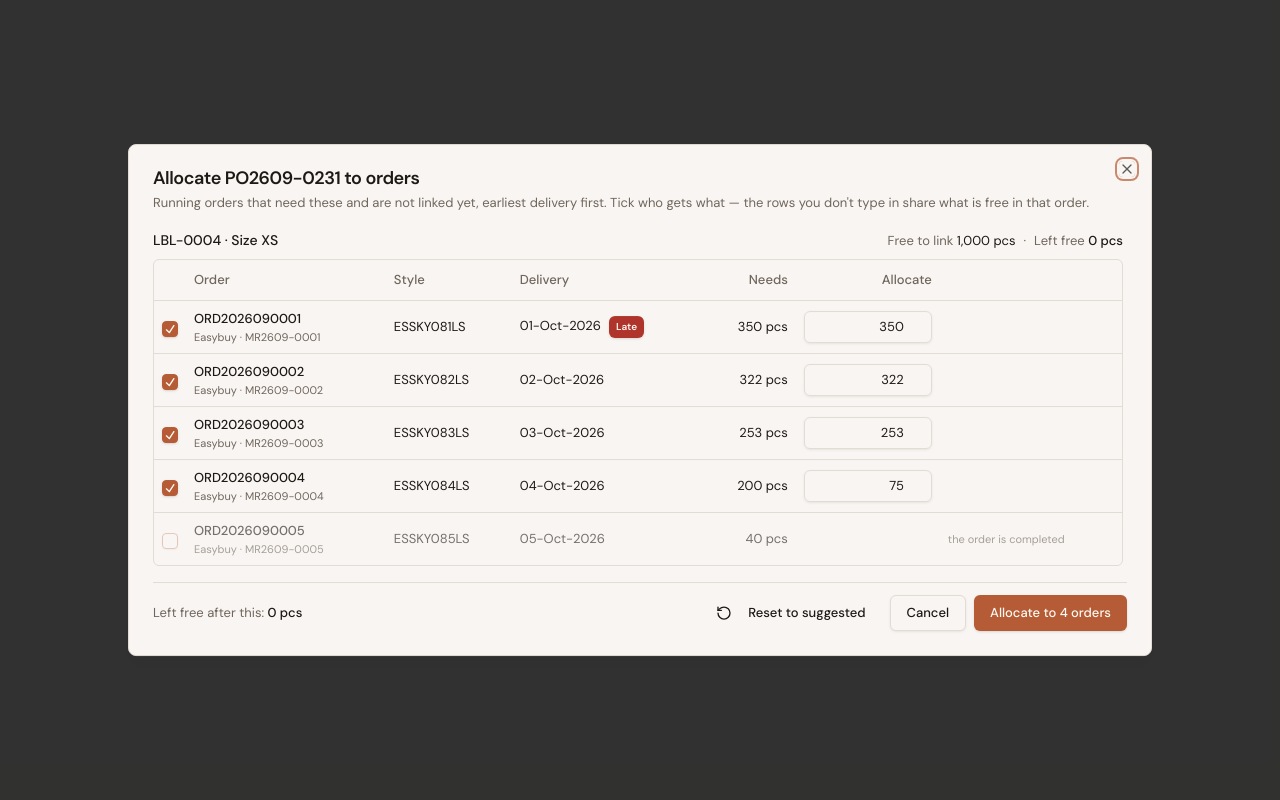
Test: AllocateToOrdersDialog › a refused row shows why, and the split stays as it was
The image size is (1280, 800).
Expected: the heading "Allocate PO2609-0231 to orders" is shown, [153,166,420,190]
Click the checkbox named "Allocate to ORD2026090001". click: (170, 329)
box: [162,321,178,337]
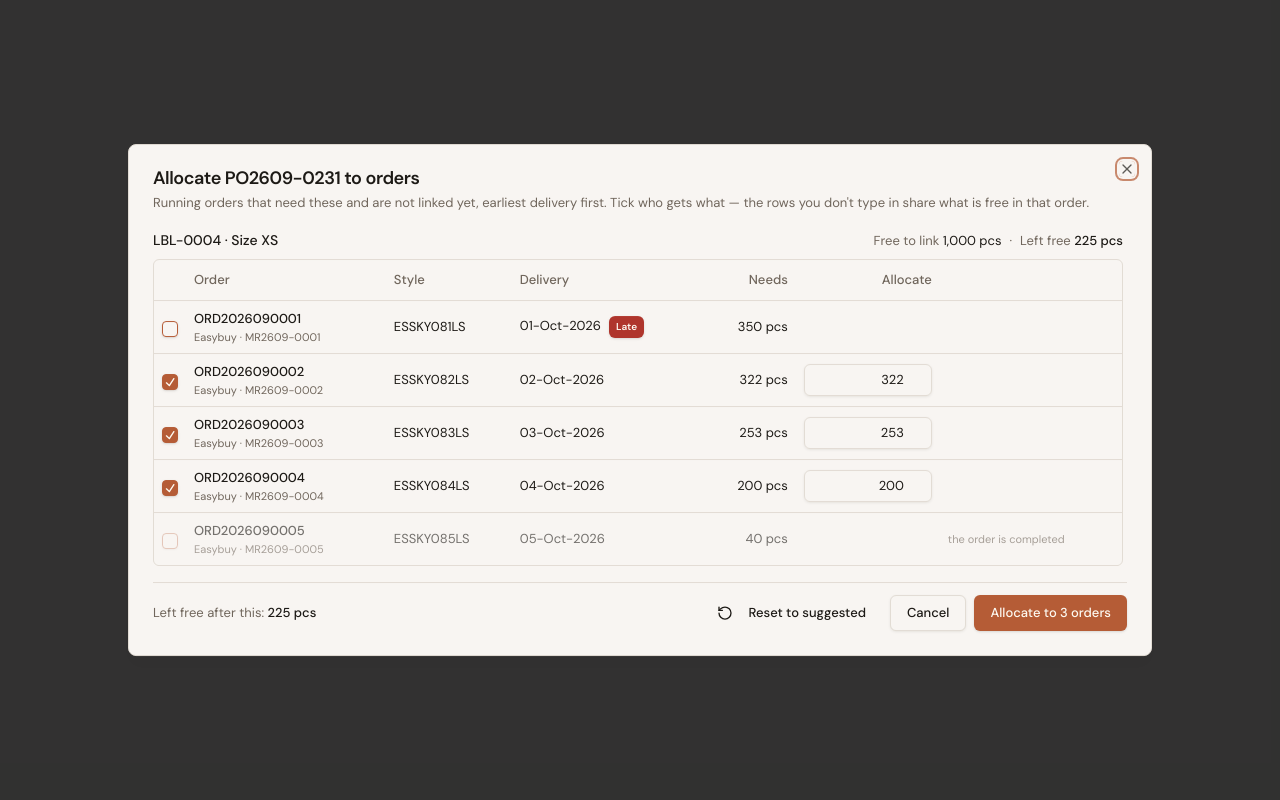
Click the button "Allocate to 3 orders". click: (1051, 613)
box: [974,595,1127,631]
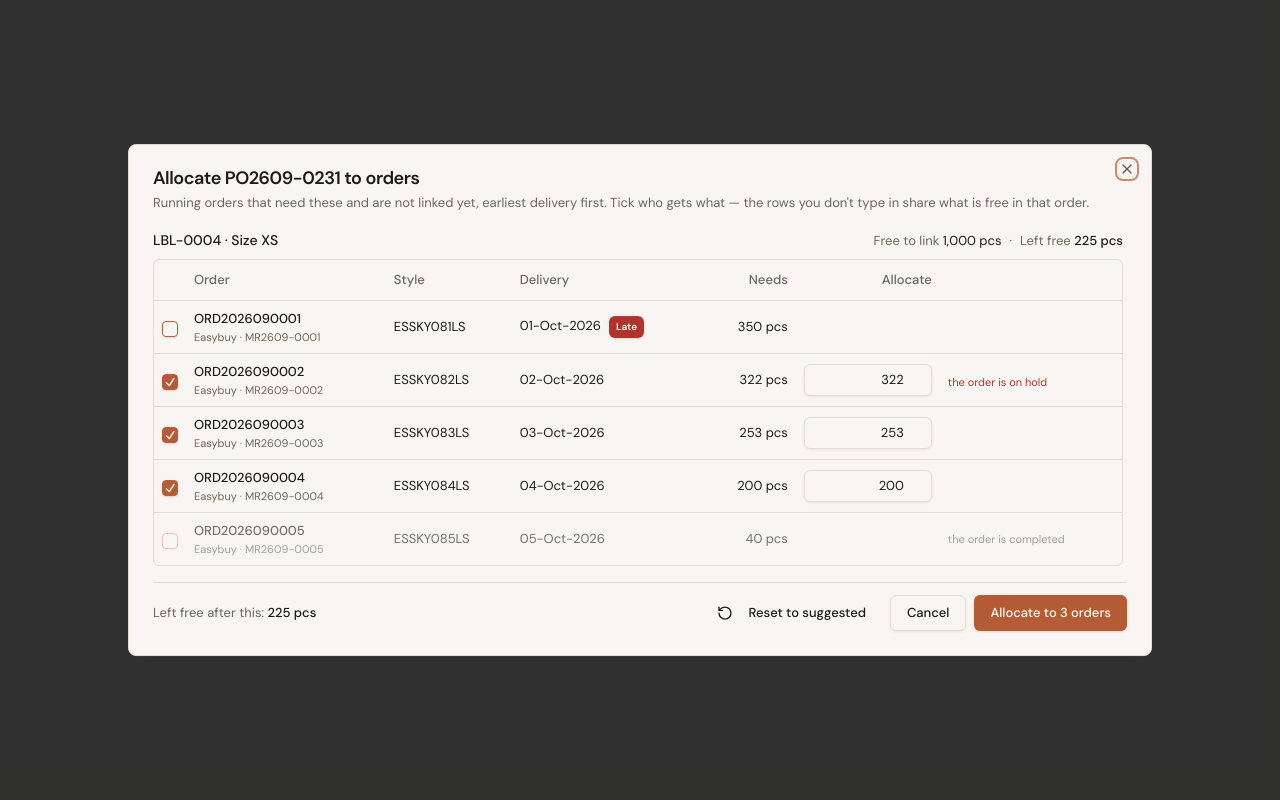
Expected: the text "the order is on hold" is shown, [948,375,1047,389]
